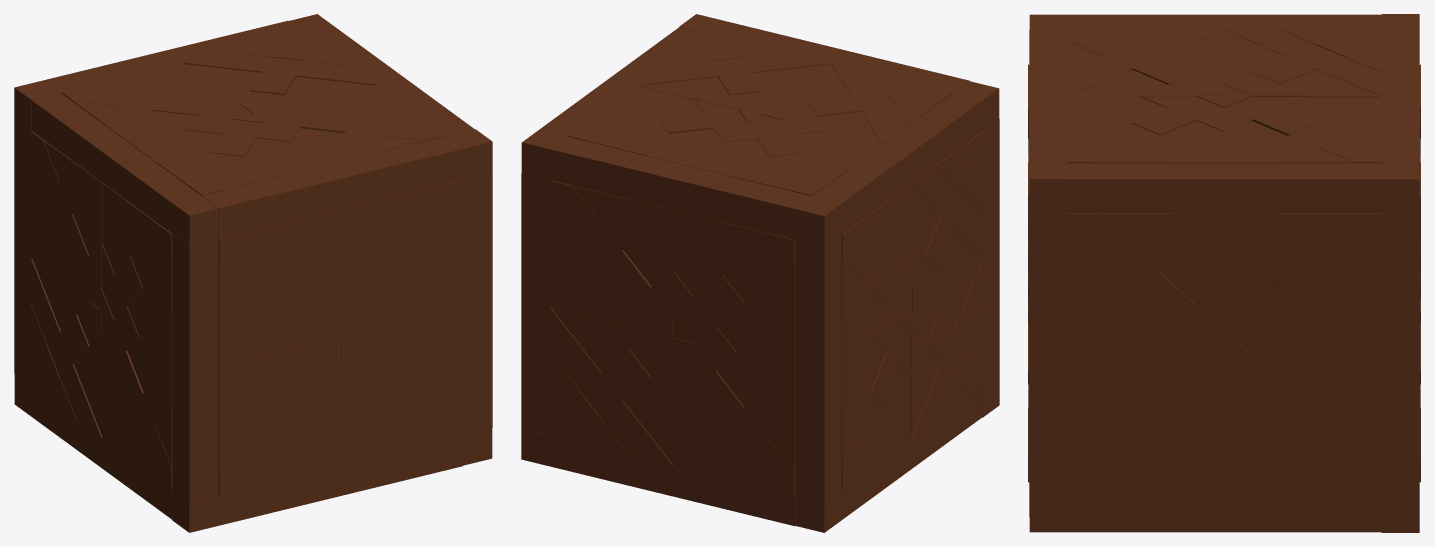
The picture shows the model from 3 angles, left to right: view 1: azimuth 30°, elevation 25°; view 2: azimuth 150°, elevation 25°; view 3: azimuth 270°, elevation 25°; orthographic projection. The views are drawn at different scales.
Visible parts, largest first — view 1: Body1; view 2: Body1; view 3: Body1.
Boxes of the visible parts, box(x1,y1,x2,y2) form: Body1: box(14, 14, 492, 532); Body1: box(521, 14, 999, 532); Body1: box(1028, 14, 1420, 532).
Size of the model in its own units: 1000 by 1000 by 1000.
